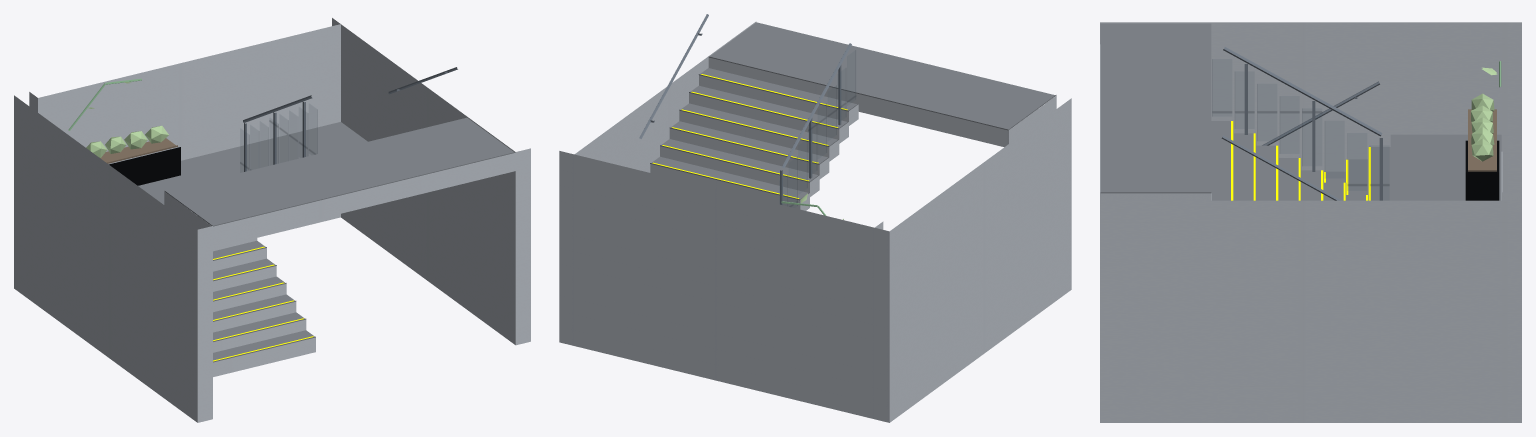
File: v1_upper.glb
3 views of the same model, side by side, from view 1: azimuth 30°, elevation 25°; view 2: azimuth 150°, elevation 25°; view 3: azimuth 270°, elevation 25° (orthographic). The views are drawn at different scales.
Parts seen in each view (by area): view 1: Core_Walls, Top_Landing_Slate, Top_Landing, Flight1_Modules, Mid_Landing_Slate, Treads_Slate, Planter_Trough, Foliage, Nosing_Emergency, Planter_Soil, Guard_Posts, Guard_Glass_Centre; view 2: Core_Walls, Top_Landing_Slate, Flight2_Modules, Treads_Slate, Top_Landing, Nosing_Emergency, Guard_Posts, Guard_Glass_Centre, Guard_Cap_Rail, Handrail_Wall; view 3: Core_Walls, Top_Landing_Slate, Treads_Slate, Mid_Landing_Slate, Foliage, Planter_Trough, Nosing_Emergency, Handrail_Wall, Top_Landing, Guard_Cap_Rail, Guard_Posts, Planter_Soil (+1 smaller).
Part boxes in pixels (box(x1,y1,x2,y2)): Core_Walls: box(14, 18, 530, 422); Top_Landing_Slate: box(164, 117, 515, 226); Top_Landing: box(164, 153, 515, 244); Flight1_Modules: box(213, 234, 315, 376); Mid_Landing_Slate: box(138, 122, 367, 204); Treads_Slate: box(213, 240, 315, 362); Planter_Trough: box(109, 147, 180, 185); Foliage: box(86, 125, 168, 157); Nosing_Emergency: box(213, 246, 313, 361); Planter_Soil: box(100, 138, 177, 163); Guard_Posts: box(244, 102, 305, 171); Guard_Glass_Centre: box(240, 110, 317, 169); Core_Walls: box(559, 21, 1071, 422); Top_Landing_Slate: box(708, 22, 1056, 130); Flight2_Modules: box(650, 75, 858, 210); Treads_Slate: box(650, 68, 858, 200); Top_Landing: box(708, 57, 1056, 147); Nosing_Emergency: box(652, 74, 847, 198); Guard_Posts: box(780, 65, 841, 205); Guard_Glass_Centre: box(787, 50, 855, 206); Guard_Cap_Rail: box(782, 43, 851, 168); Handrail_Wall: box(639, 14, 708, 138); Core_Walls: box(1100, 22, 1521, 422); Top_Landing_Slate: box(1100, 23, 1211, 193); Treads_Slate: box(1211, 121, 1390, 200); Mid_Landing_Slate: box(1390, 134, 1501, 200); Foliage: box(1471, 93, 1494, 161); Planter_Trough: box(1465, 140, 1499, 200); Nosing_Emergency: box(1231, 121, 1370, 200); Handrail_Wall: box(1221, 81, 1379, 200); Top_Landing: box(1100, 44, 1210, 200); Guard_Cap_Rail: box(1223, 47, 1382, 136); Guard_Posts: box(1244, 64, 1382, 200); Planter_Soil: box(1468, 109, 1496, 171).
Size of what is drawn, in the model's own units: 5.5 by 3.98 by 5.25.
Materials: 9 (4 with a texture image).
